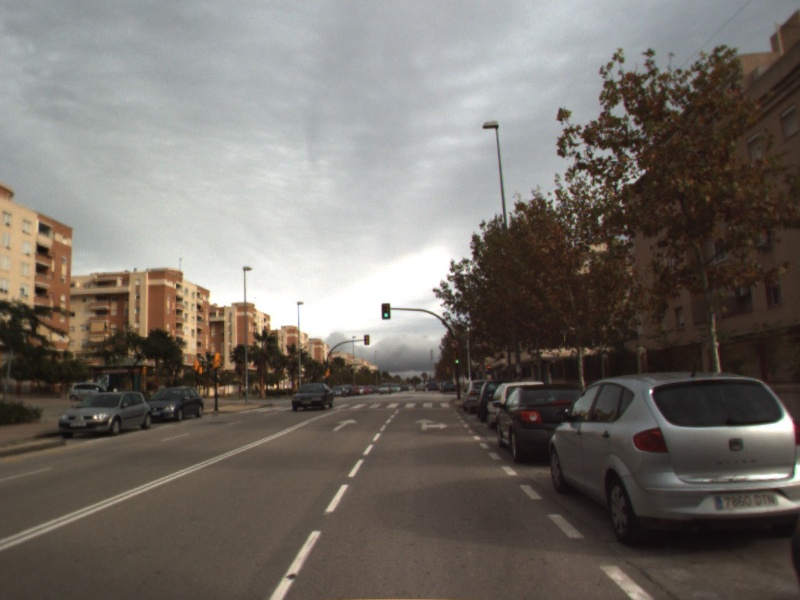STRAIGHT: (330, 416, 359, 433)
STRAIGHT_RIGHT: (412, 416, 450, 433)
